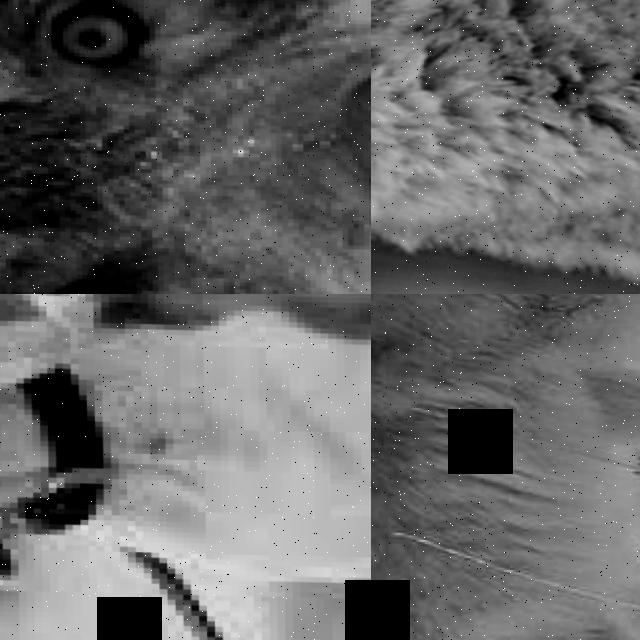dog: (0, 294, 371, 640)
wolf: (0, 0, 371, 294), (371, 294, 640, 640), (371, 0, 640, 294)
